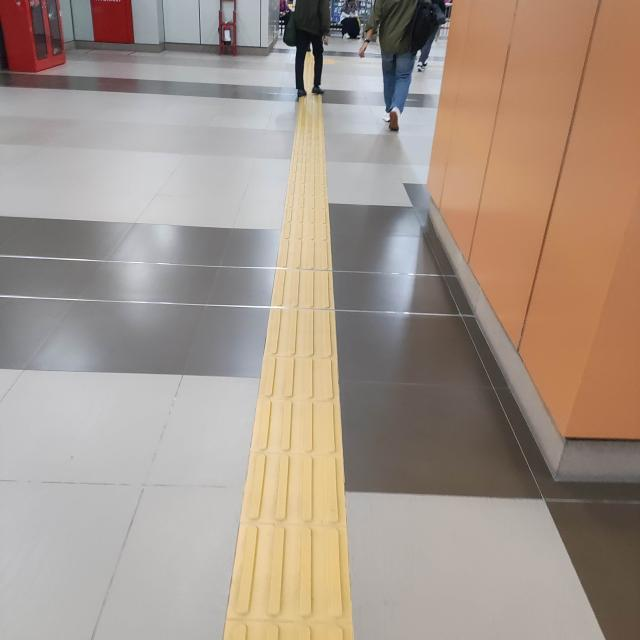lurus: (236, 114, 360, 640)
